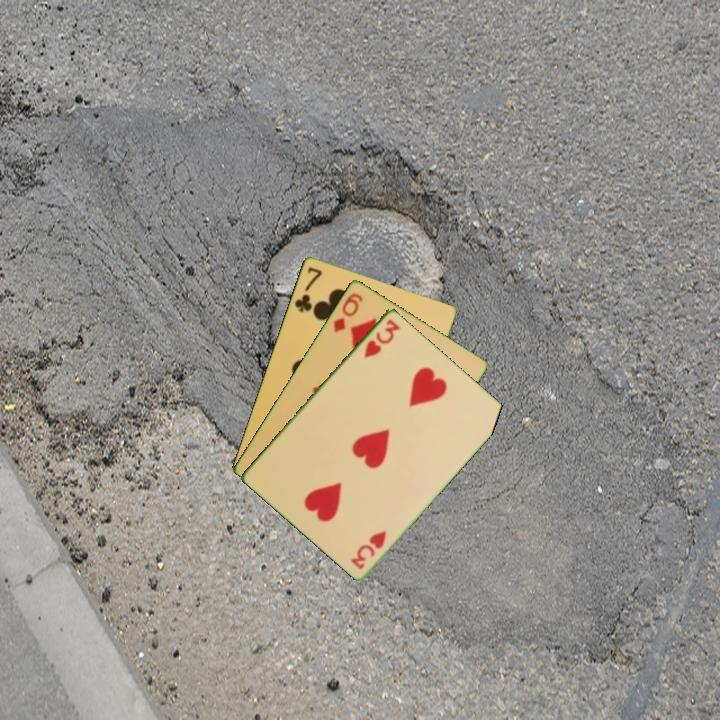3h: (360, 315, 403, 360), (347, 526, 389, 572)
6d: (329, 289, 365, 335)
7c: (291, 263, 325, 315)
